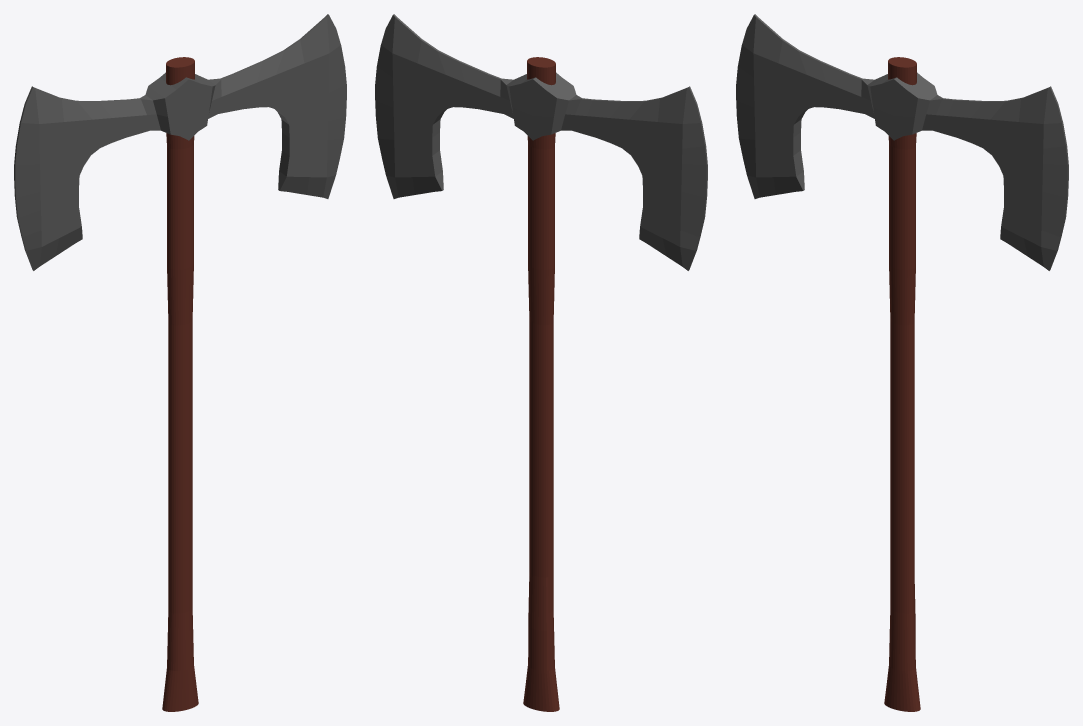
File: axe.fbx
3 views of the same model, side by side, from view 1: azimuth 30°, elevation 25°; view 2: azimuth 150°, elevation 25°; view 3: azimuth 330°, elevation 25° (orthographic).
Visible parts, largest first — view 1: Plane, Cylinder; view 2: Plane, Cylinder; view 3: Plane, Cylinder.
Part boxes in pixels (x1,y1,x2,y2): Plane: (14, 14, 346, 270); Cylinder: (162, 57, 198, 711); Plane: (375, 14, 707, 270); Cylinder: (523, 57, 559, 711); Plane: (736, 14, 1068, 270); Cylinder: (884, 57, 920, 711).
Size of the model in its own units: 81 by 153 by 7.15.
